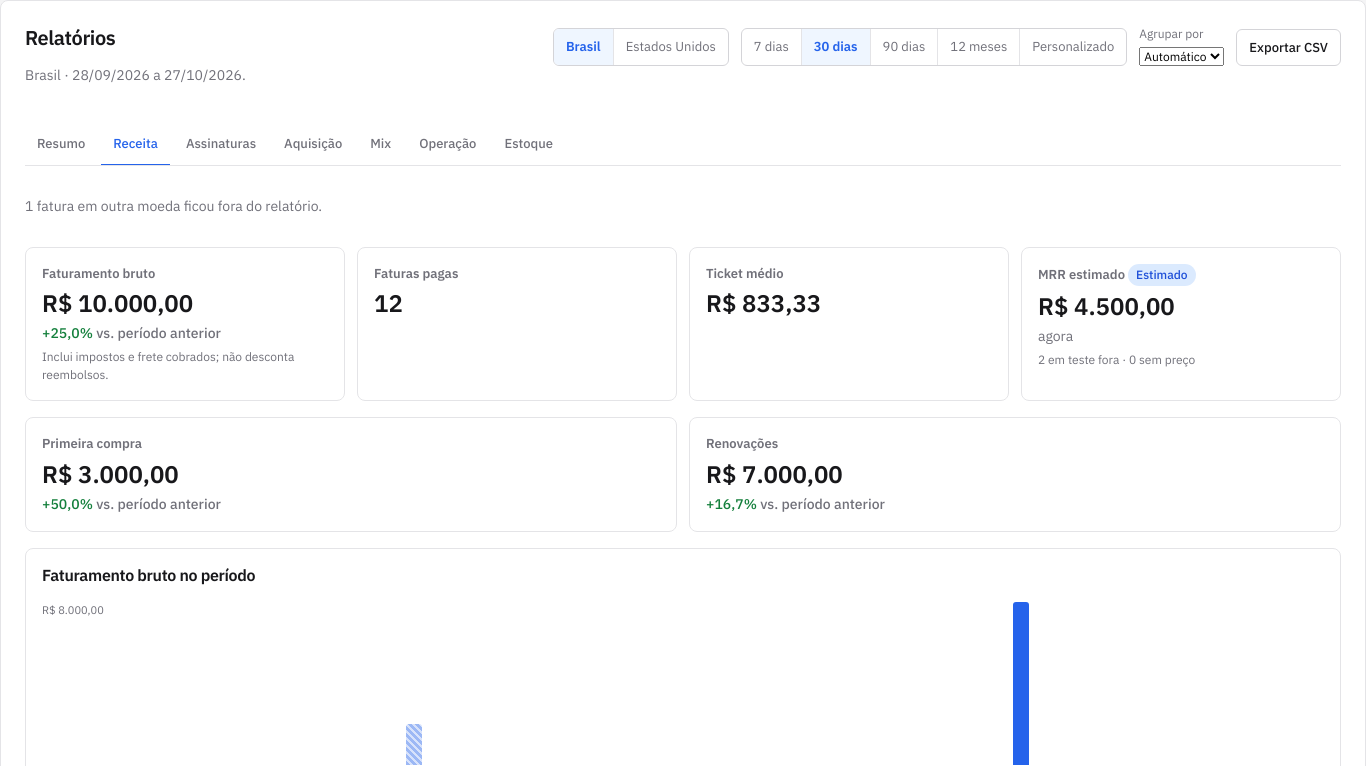
ReportsPage › blocks a custom range over 366 days without sending a request
Expected: the text "Faturamento bruto" is shown, [42, 264, 155, 282]
Click the button "Personalizado". click: click(1073, 47)
box: [1020, 29, 1126, 65]
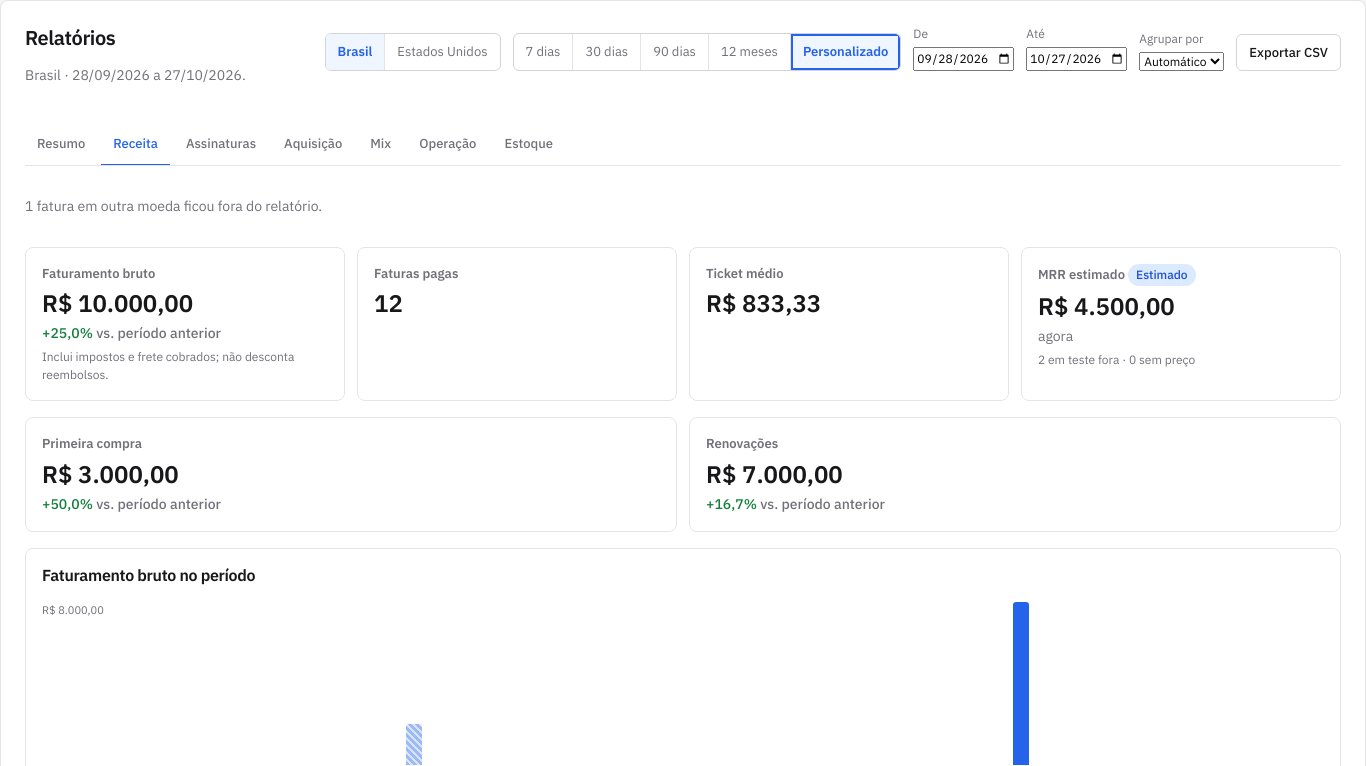
Type "2025-01-01" into the date field labelled "De". click: (964, 59)
box: [913, 47, 1014, 71]
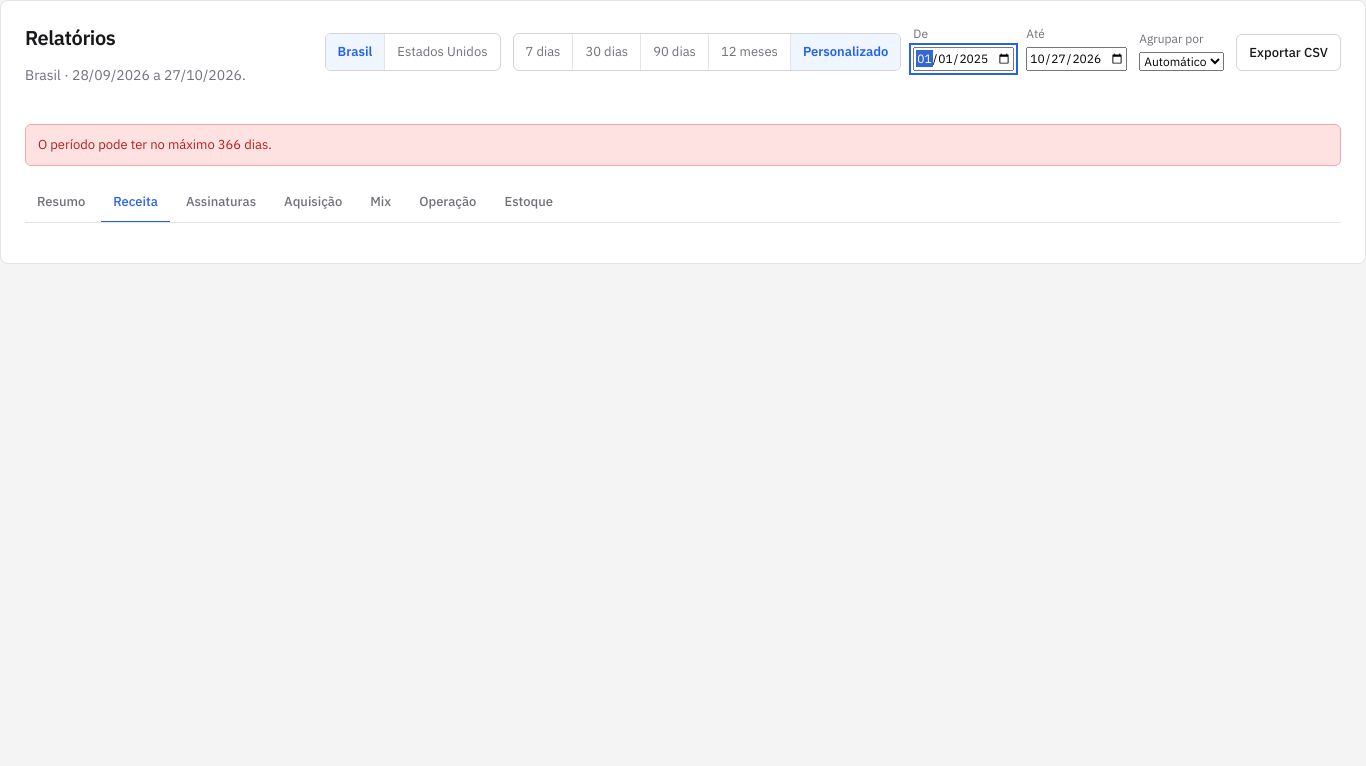
Now the text "O período pode ter no máximo 366 dias." is shown, box [25, 124, 1341, 166]
